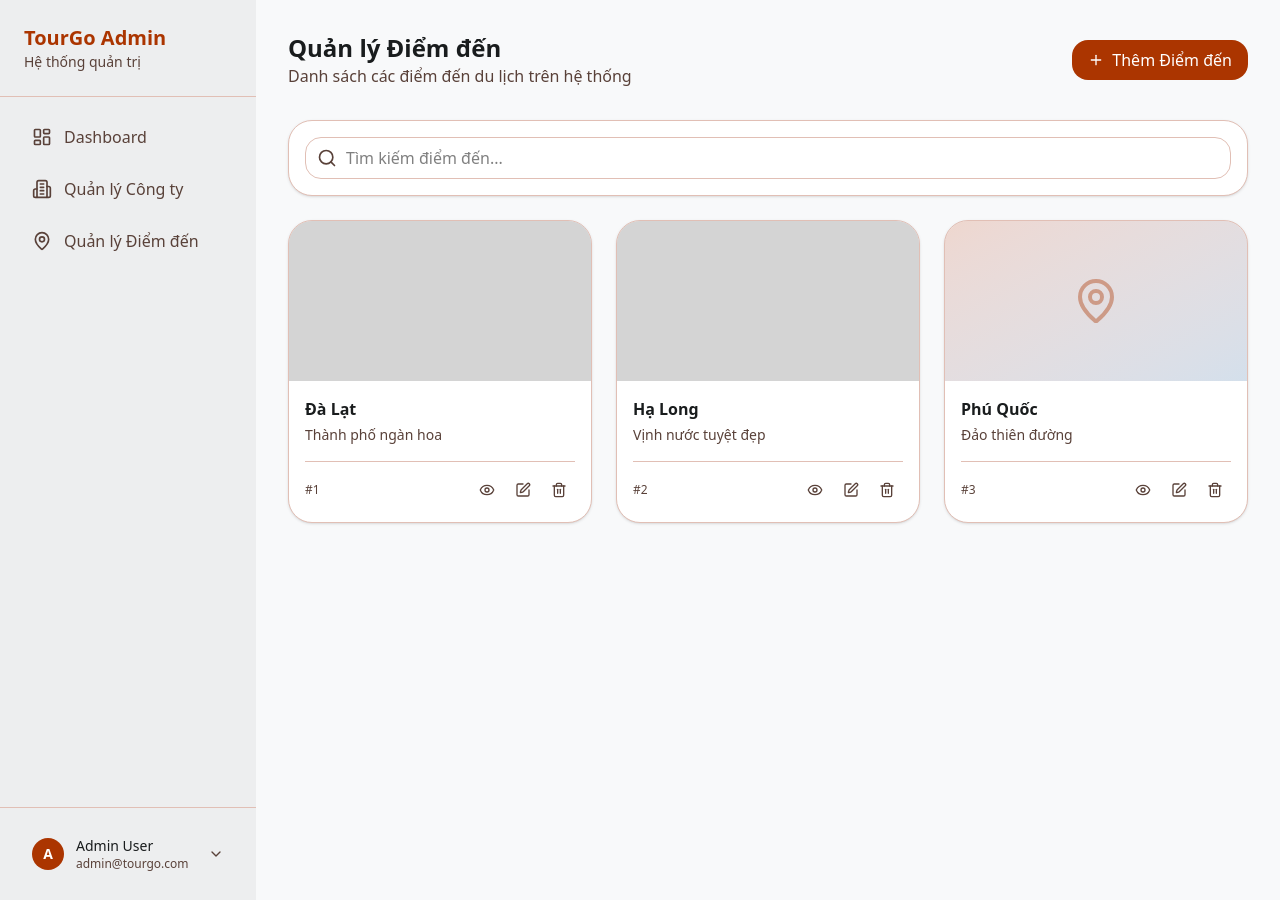
Test case: DestinationsPage › opens delete confirm modal when delete button clicked
Expected: the heading "Đà Lạt" is shown, x1=305 y1=398 x2=356 y2=420
Click the button titled "Xóa" below "Thành phố ngàn hoa": (559, 490) x1=543 y1=474 x2=575 y2=506
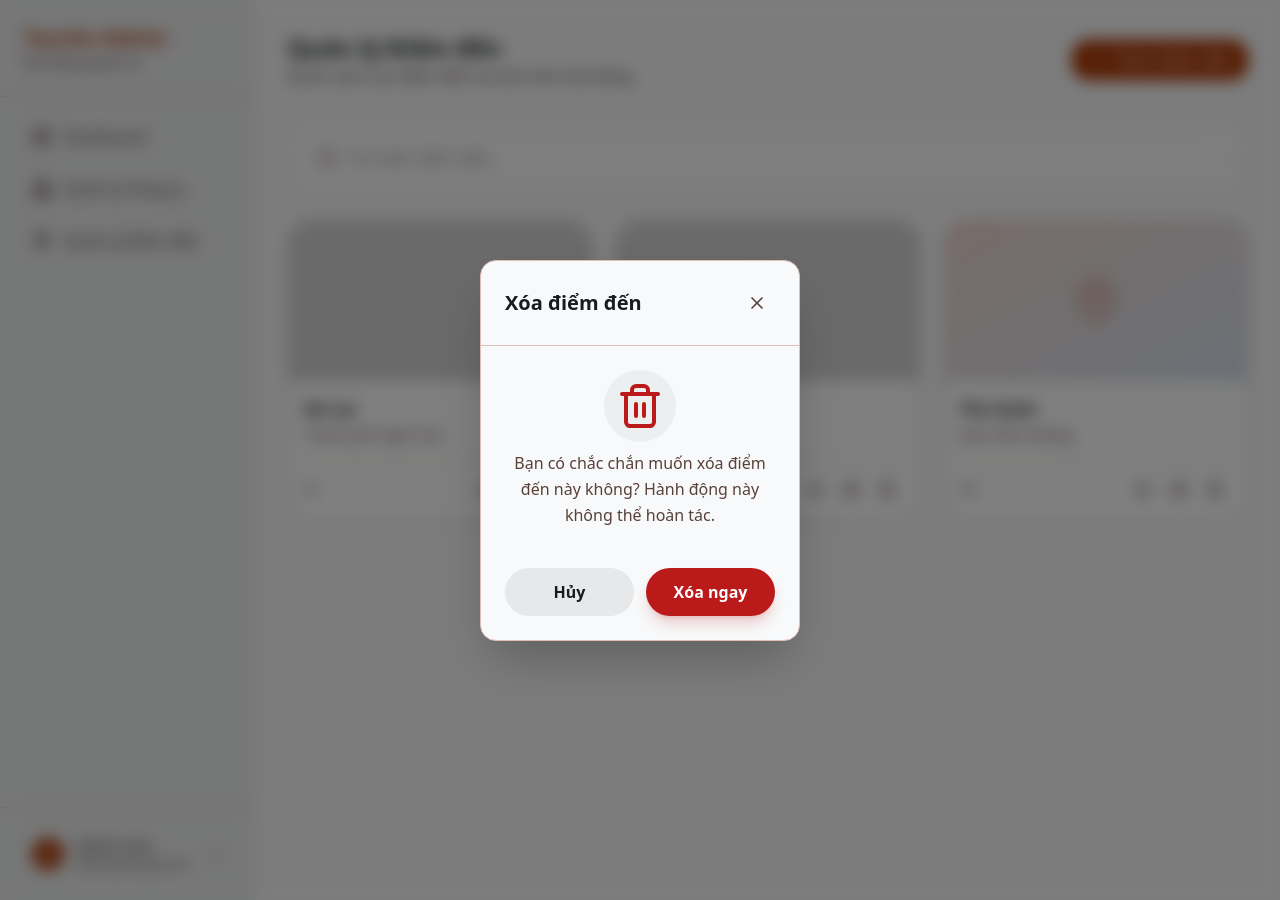
Expected: the text "Bạn có chắc chắn muốn xóa điểm đến này" is shown, x1=514 y1=452 x2=766 y2=526
